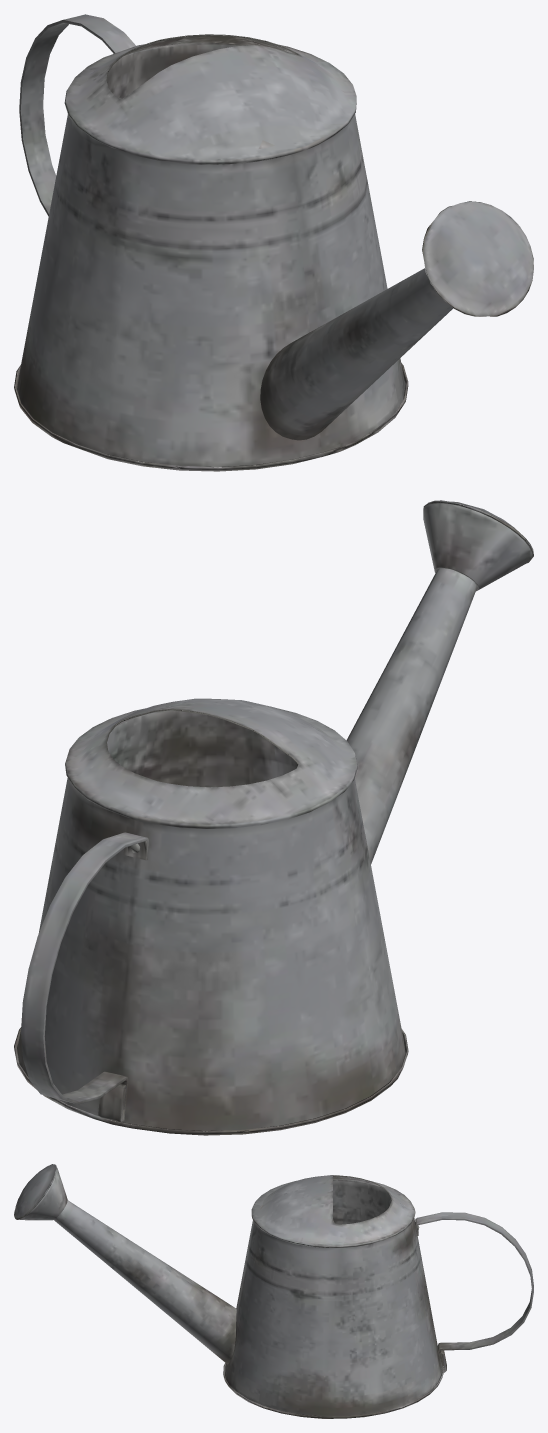
The model's file is watering-can.glb.
3 views of the same model, one above another, from view 1: azimuth 30°, elevation 25°; view 2: azimuth 150°, elevation 25°; view 3: azimuth 270°, elevation 25° (orthographic). The views are drawn at different scales.
Parts seen in each view (by area): view 1: watering_can_metal_01; view 2: watering_can_metal_01; view 3: watering_can_metal_01.
Boxes of the visible parts, left/top/right/bottom form: watering_can_metal_01: left=14, top=14, right=533, bottom=471; watering_can_metal_01: left=14, top=500, right=533, bottom=1135; watering_can_metal_01: left=14, top=1164, right=533, bottom=1418.
Bounding box in the file's own units: 0.1905 × 0.1965 × 0.4521.
1 material, 1 textured.
